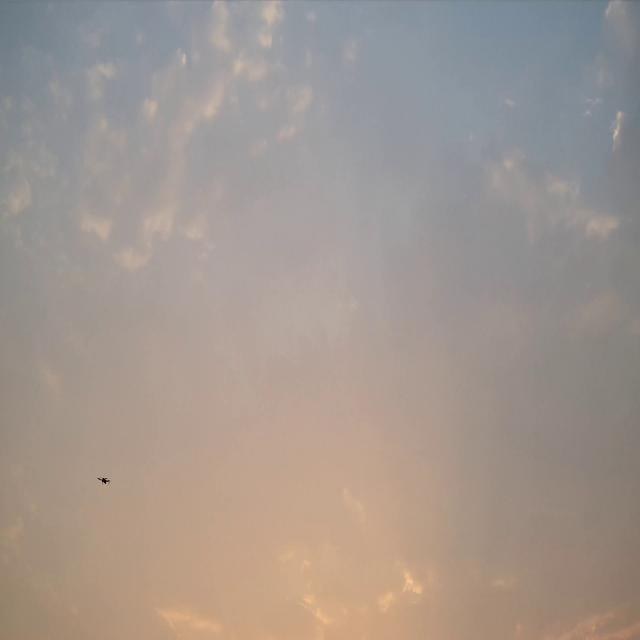drone: (97, 476, 111, 484)
